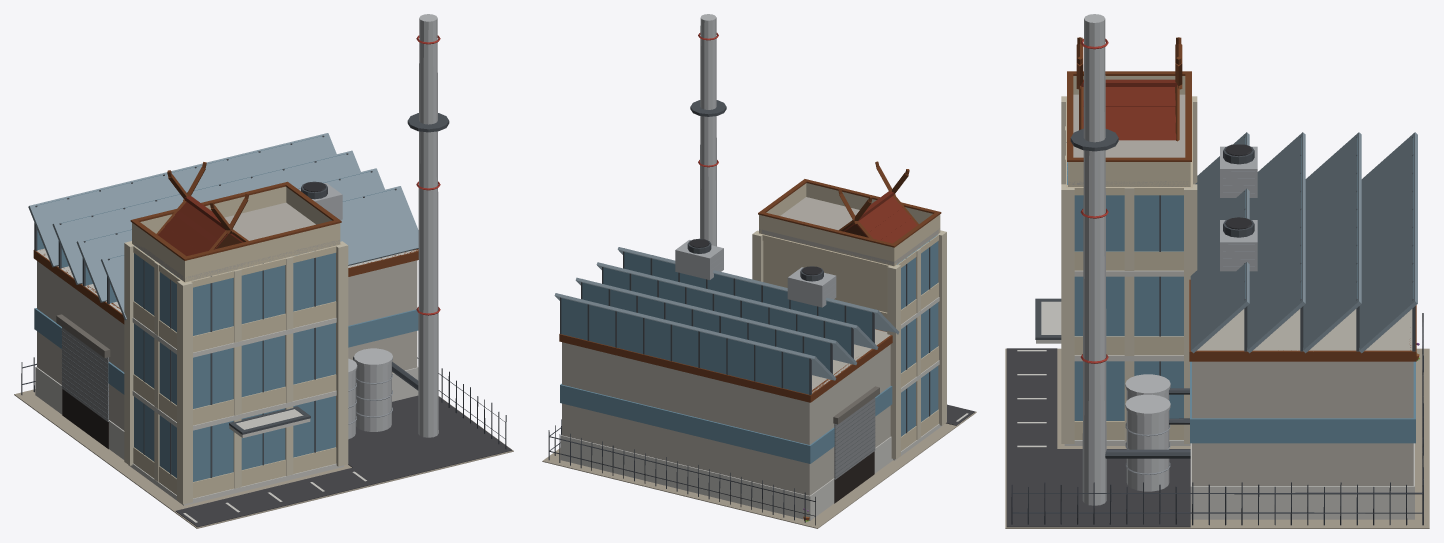
The model's file is factory_3.glb.
The picture shows the model from 3 angles, left to right: view 1: azimuth 30°, elevation 25°; view 2: azimuth 150°, elevation 25°; view 3: azimuth 270°, elevation 25°; orthographic projection. The views are drawn at different scales.
Parts seen in each view (by area): view 1: body, windows; view 2: body, windows; view 3: body.
Boxes of the visible parts, box(x1,y1,x2,y2) form: body: box(14, 14, 513, 528); windows: box(62, 389, 108, 449); body: box(542, 14, 976, 528); windows: box(834, 451, 874, 503); body: box(1005, 14, 1429, 528).
Bounding box in the file's own units: 15.9 × 20.19 × 15.9.
